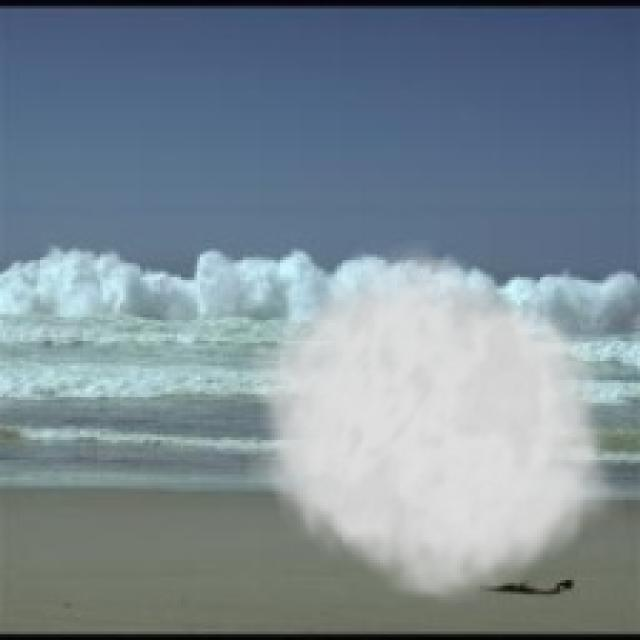smoke: (245, 237, 626, 612)
